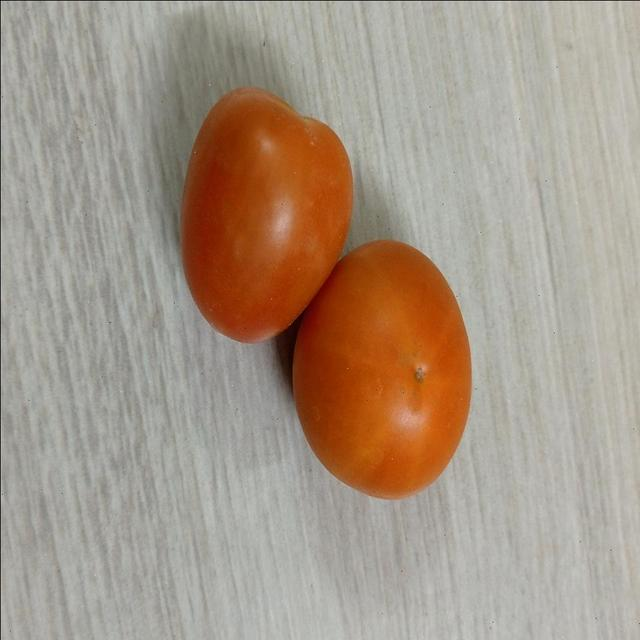Healthy Fruit: (120, 142, 256, 245)
